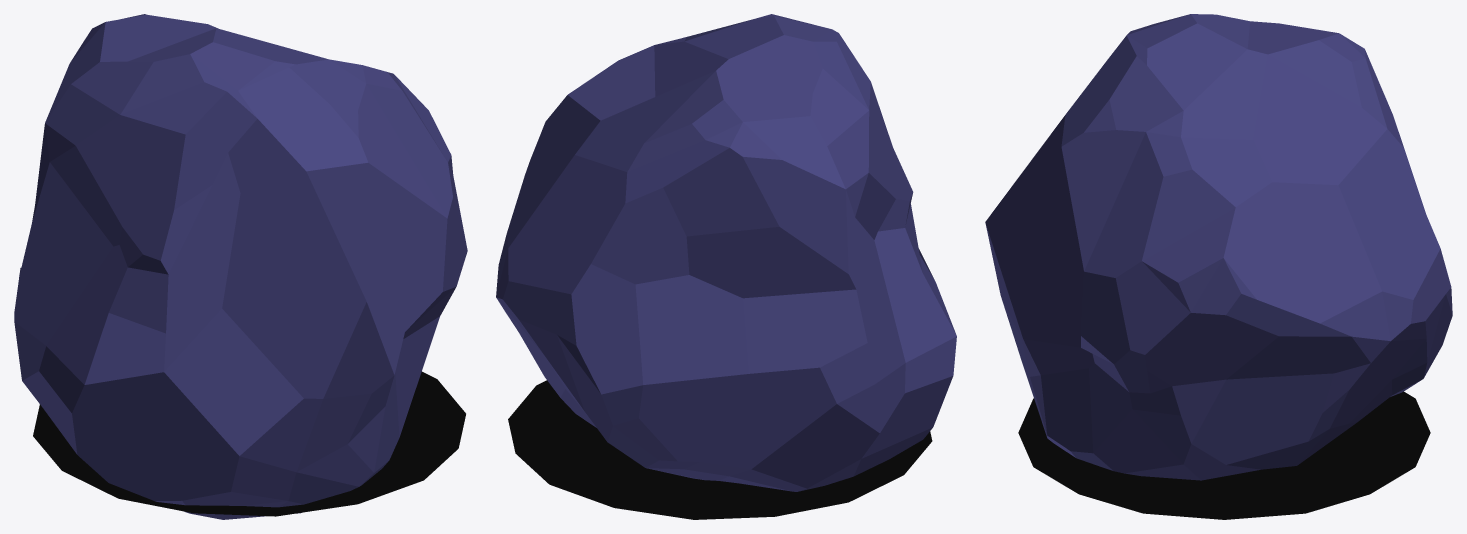
The model's file is Kamien7.fbx.
The picture shows the model from 3 angles, left to right: view 1: azimuth 30°, elevation 25°; view 2: azimuth 150°, elevation 25°; view 3: azimuth 270°, elevation 25°; orthographic projection. The views are drawn at different scales.
Parts seen in each view (by area): view 1: Plane.002; view 2: Plane.002; view 3: Plane.002.
Part boxes in pixels (x1=…): Plane.002: x1=14, y1=14, x2=467, y2=519; Plane.002: x1=496, y1=14, x2=956, y2=519; Plane.002: x1=985, y1=14, x2=1452, y2=519.
Bounding box in the file's own units: 242 × 261 × 260.
